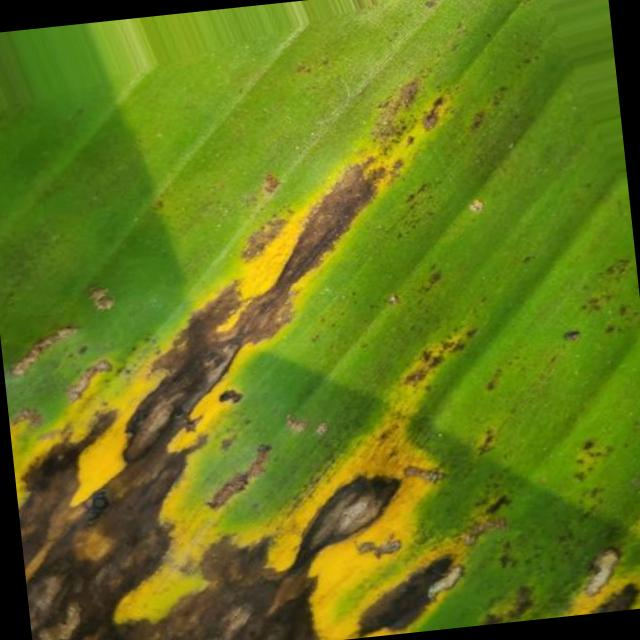Banana_Black_Sigatoka: (0, 97, 463, 640)
